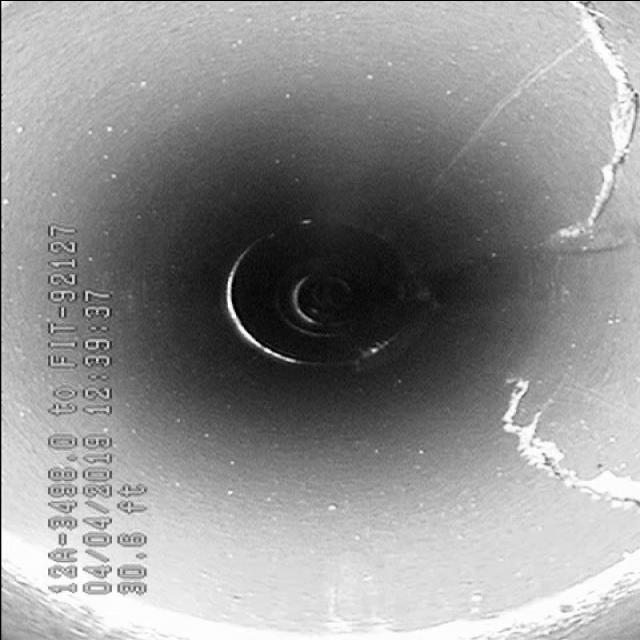Fracture: (516, 2, 638, 258), (476, 387, 635, 557)
